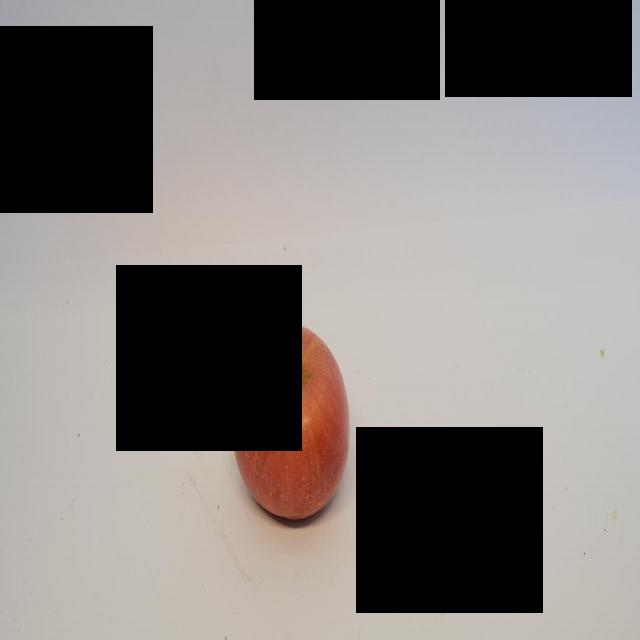apple: (232, 322, 350, 519)
